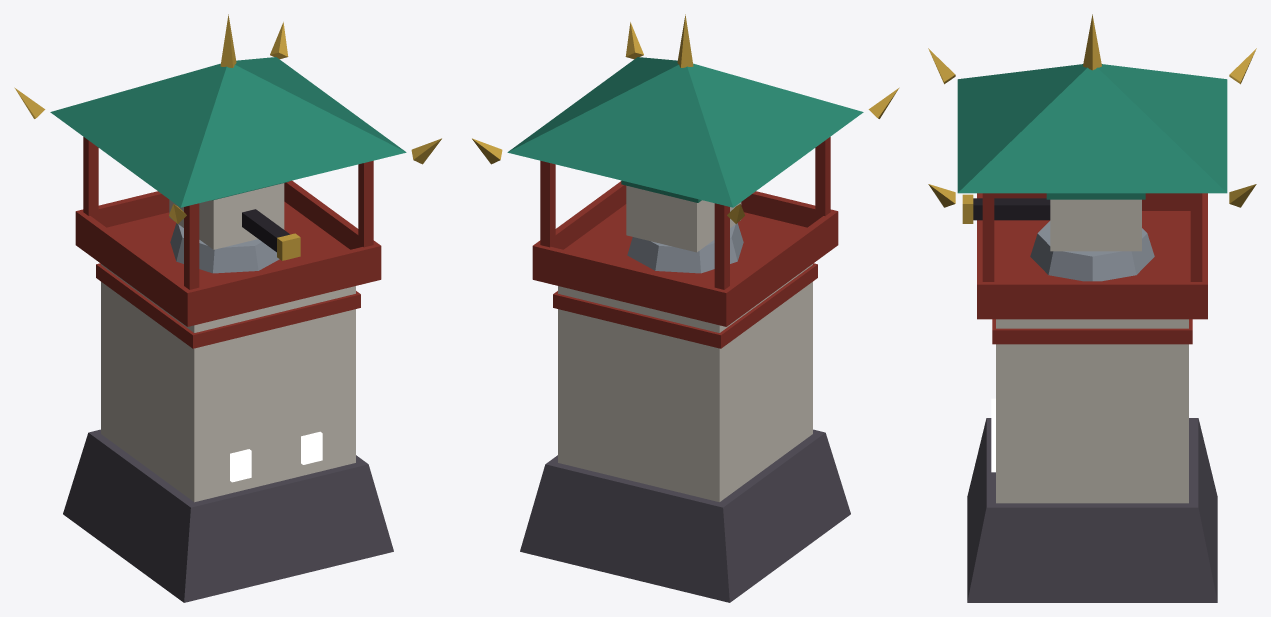
Rendered from tower_t2.glb.
The picture shows the model from 3 angles, left to right: view 1: azimuth 30°, elevation 25°; view 2: azimuth 150°, elevation 25°; view 3: azimuth 270°, elevation 25°; orthographic projection. The views are drawn at different scales.
Visible parts, largest first — view 1: body, part_turret, glow; view 2: body, part_turret; view 3: body, part_turret.
Part boxes in pixels (x1=…): body: x1=14, y1=14, x2=441, y2=602; part_turret: x1=169, y1=181, x2=300, y2=273; glow: x1=230, y1=431, x2=322, y2=482; body: x1=472, y1=14, x2=899, y2=602; part_turret: x1=621, y1=180, x2=743, y2=273; body: x1=928, y1=14, x2=1256, y2=602; part_turret: x1=962, y1=193, x2=1154, y2=281.
Size of the model in its own units: 1.67 by 3.07 by 1.71.
